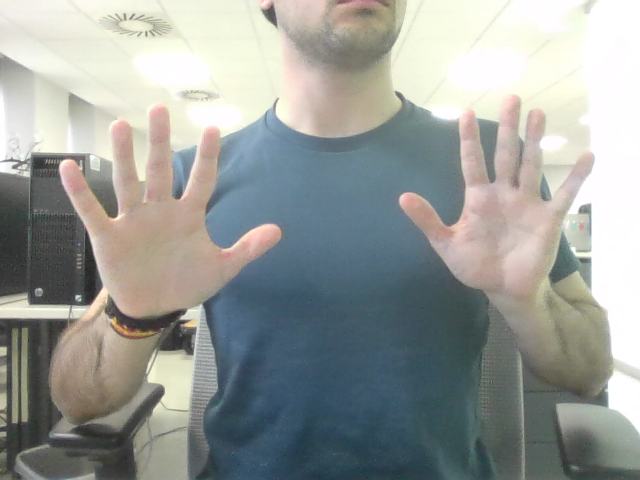Manos Arriba: (95, 113, 562, 281)
